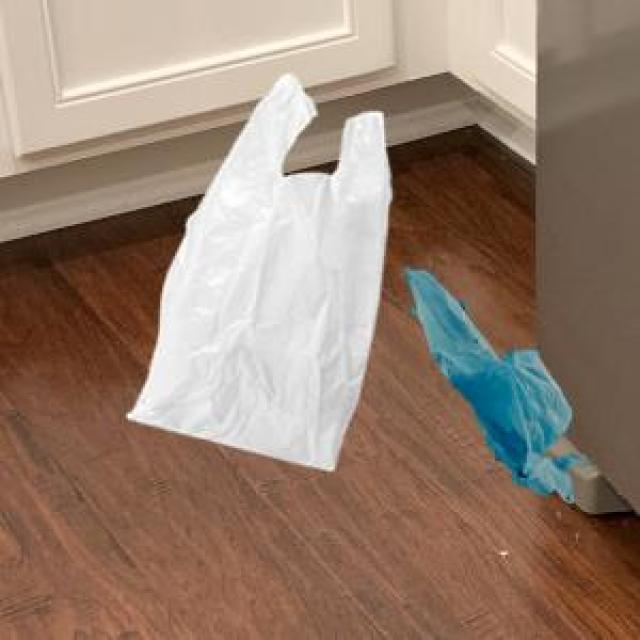waste: (128, 75, 390, 471), (411, 270, 590, 502)
